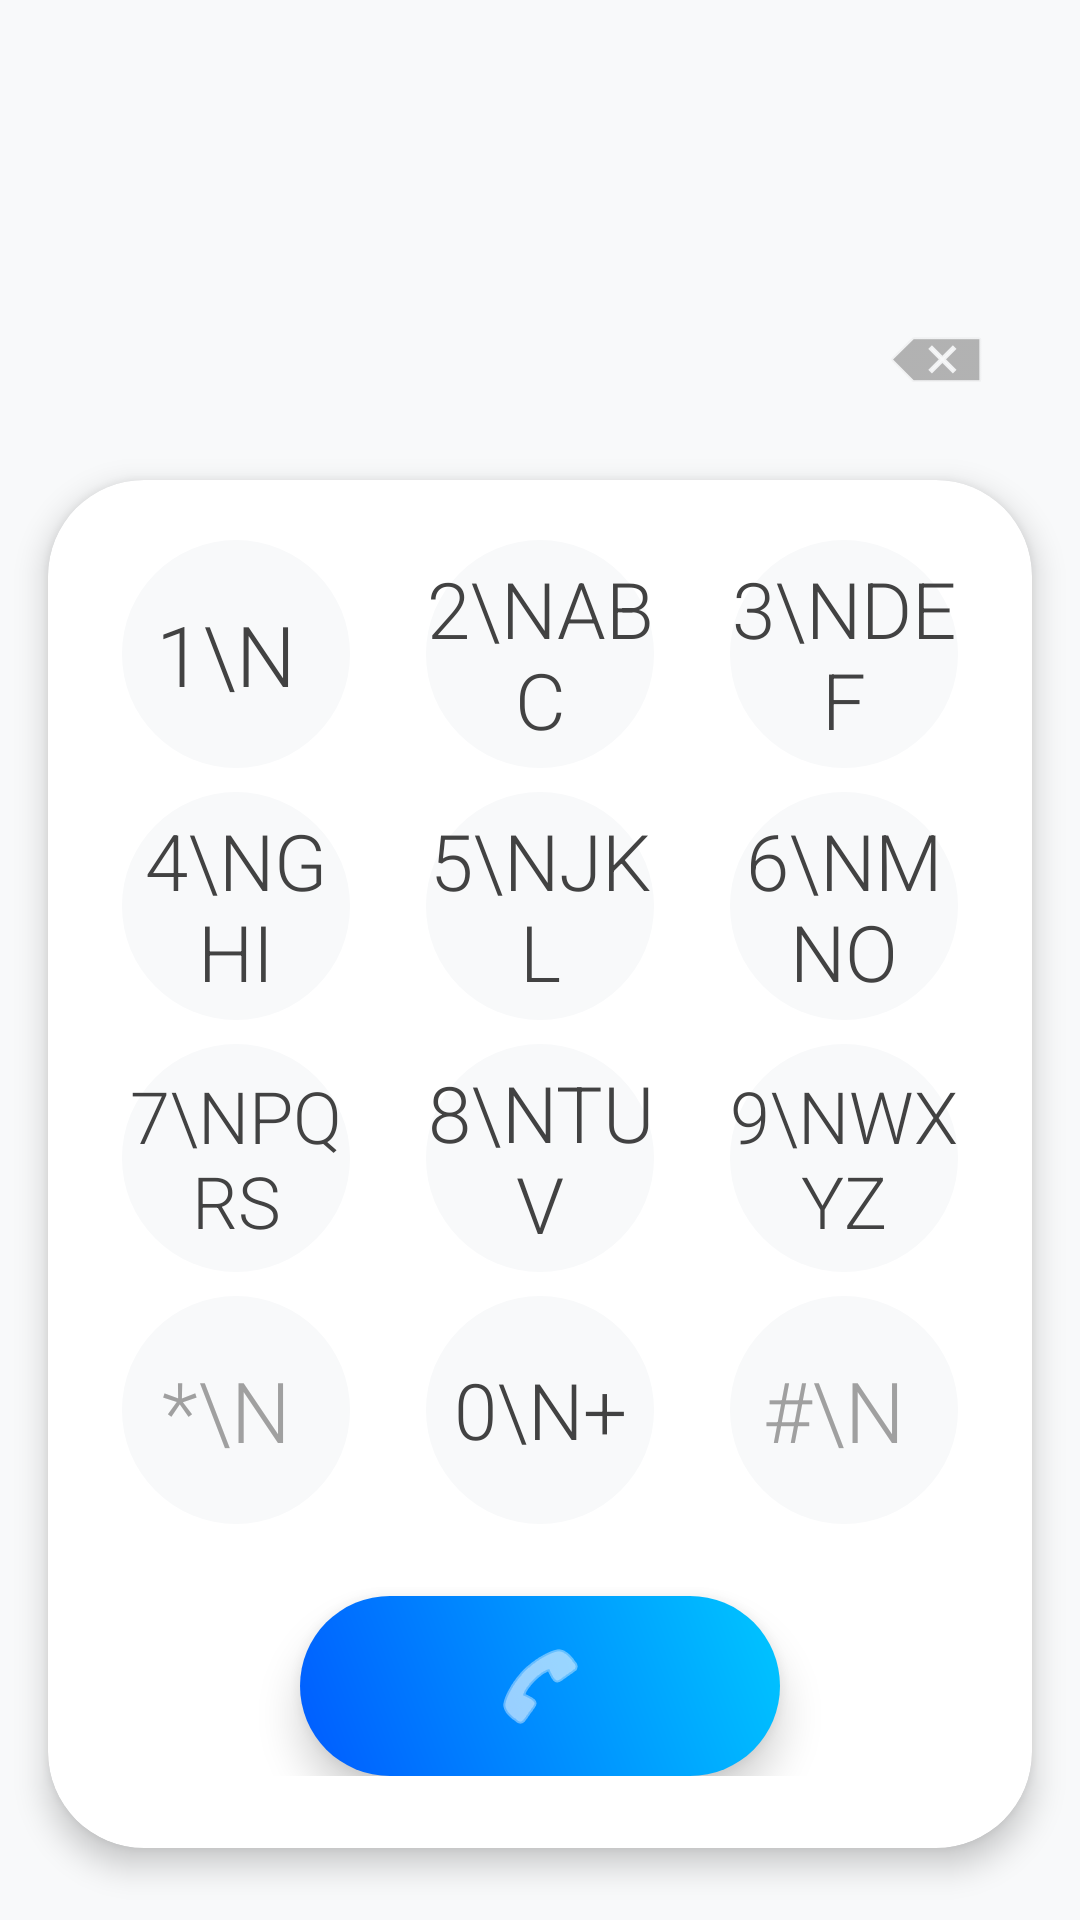

Screen size 1080w x 1920h. Icon name, then its center in pixels as [x,y]:
delete: [936,359]
